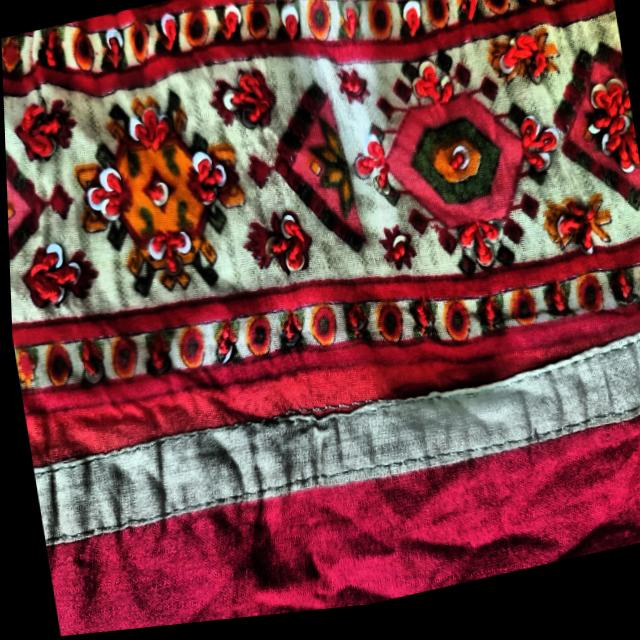Stitch: (211, 354, 511, 494)
